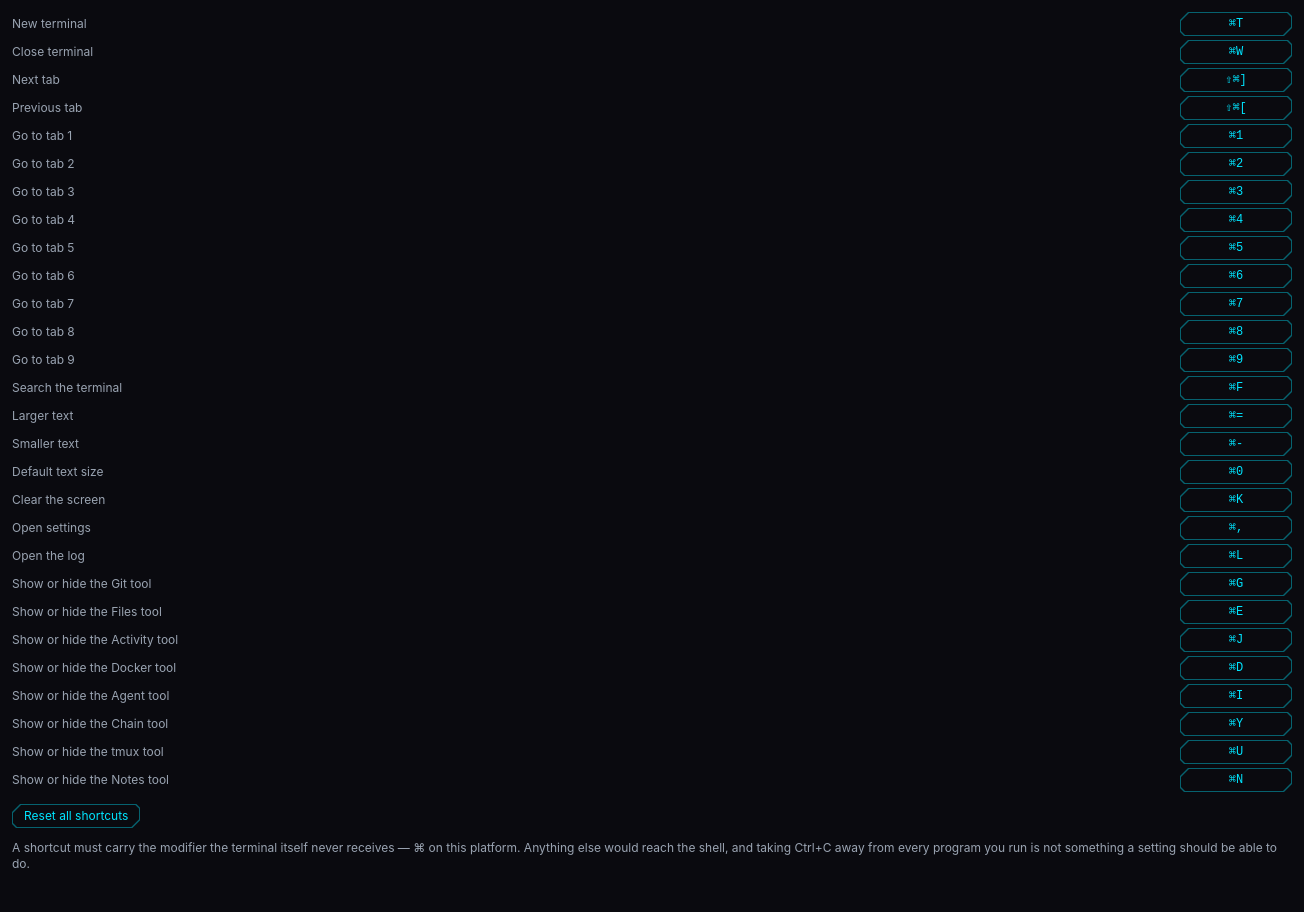
Test: ShortcutEditor › refuses a combination another action already has, and names it
Click the button named "New terminal" at (1236, 24), box [1180,12,1292,36]
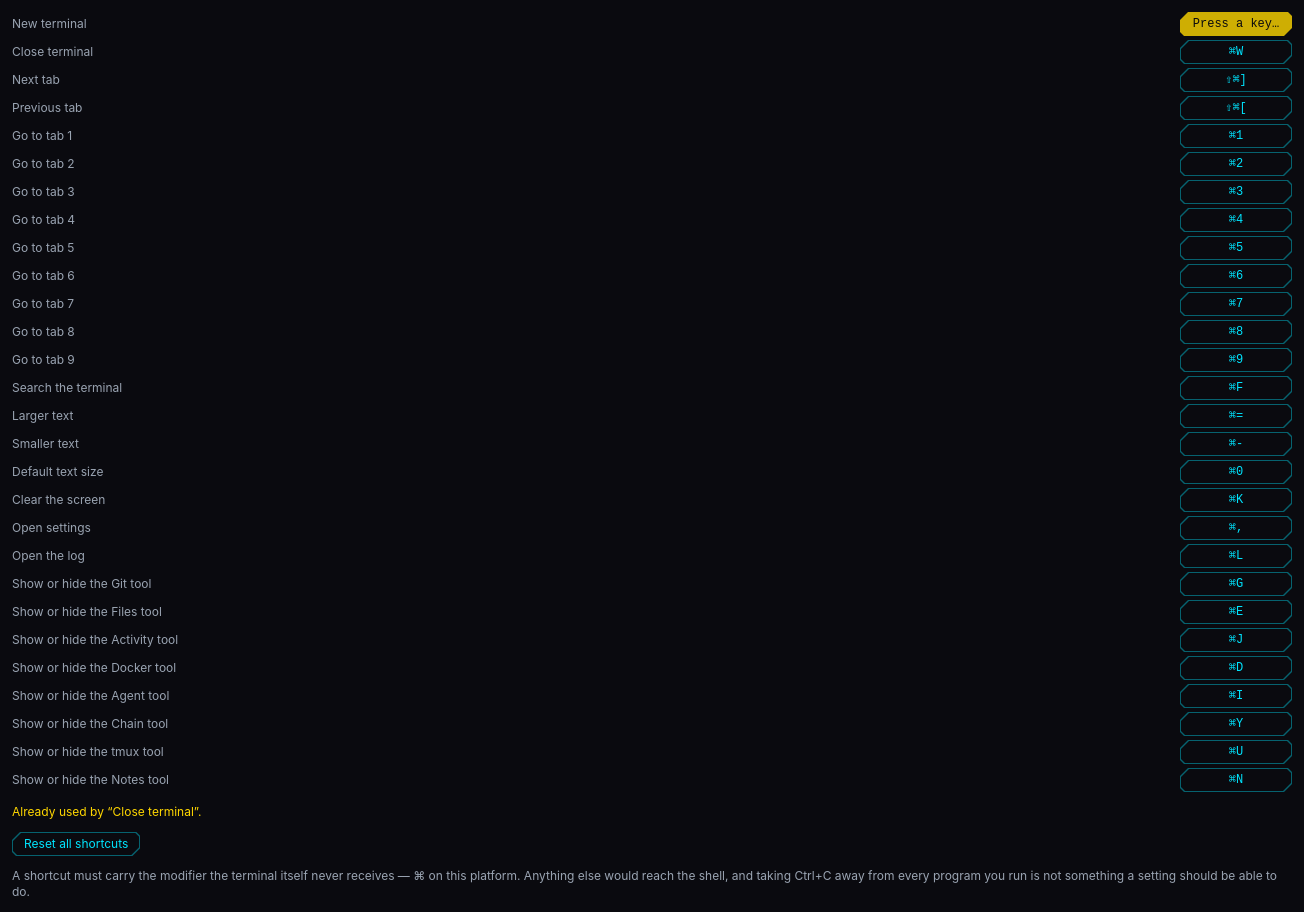
Now the text "Already used by “Close terminal”." is shown, box [12,804,201,819]
